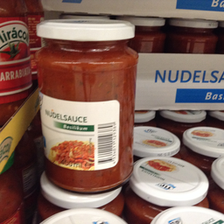tomato_sauce: (35, 17, 140, 192)
